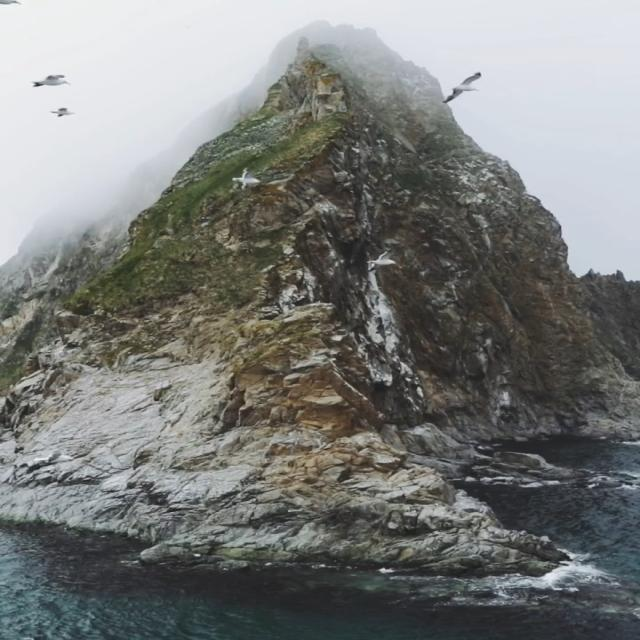bird: (432, 61, 489, 116), (220, 156, 268, 195), (23, 64, 80, 89), (39, 100, 84, 115)
